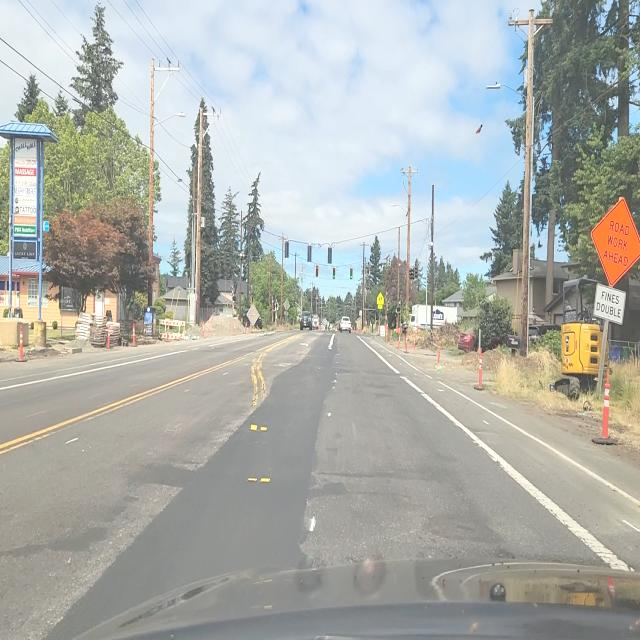car: (299, 311, 312, 331), (339, 316, 352, 333)
crosswalk-sign: (377, 293, 384, 310)
delineator: (600, 369, 611, 439), (473, 328, 483, 390), (19, 325, 24, 362), (436, 342, 442, 364), (106, 323, 111, 348), (396, 328, 401, 348), (132, 322, 136, 346), (404, 329, 408, 352), (389, 324, 393, 342), (202, 321, 206, 338), (243, 321, 247, 334), (233, 322, 237, 334), (413, 334, 416, 349)
